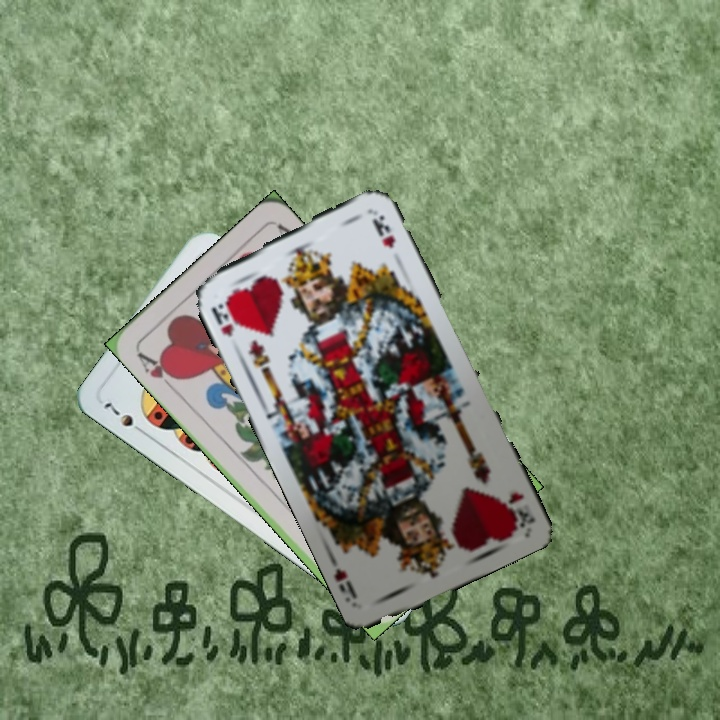HA: (133, 347, 182, 395)
HK: (501, 487, 537, 530), (207, 299, 237, 339)
S7: (99, 397, 149, 438)
